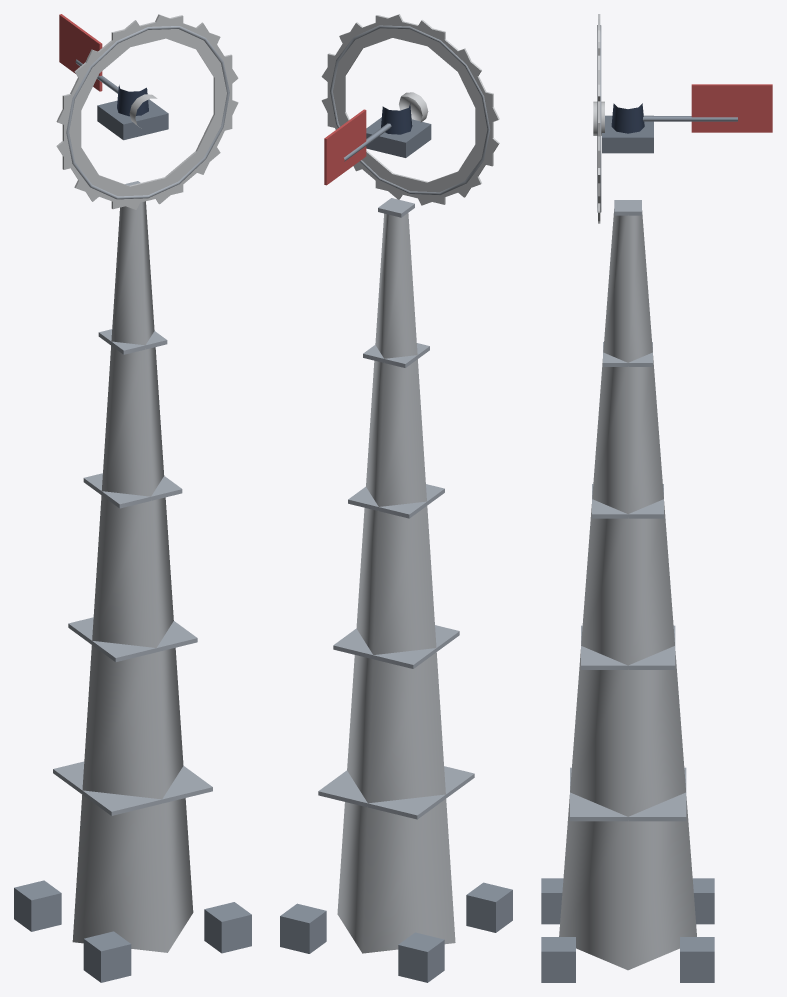
Rendered from farm-windmill.glb.
3 views of the same model, side by side, from view 1: azimuth 30°, elevation 25°; view 2: azimuth 150°, elevation 25°; view 3: azimuth 270°, elevation 25° (orthographic). The views are drawn at different scales.
Visible parts, largest first — view 1: Root; view 2: Root; view 3: Root.
Boxes of the visible parts, x1=… form: Root: x1=14, y1=14, x2=251, y2=982; Root: x1=280, y1=14, x2=512, y2=982; Root: x1=541, y1=14, x2=772, y2=982.
Bounding box in the file's own units: 3.6 × 17.6 × 4.
